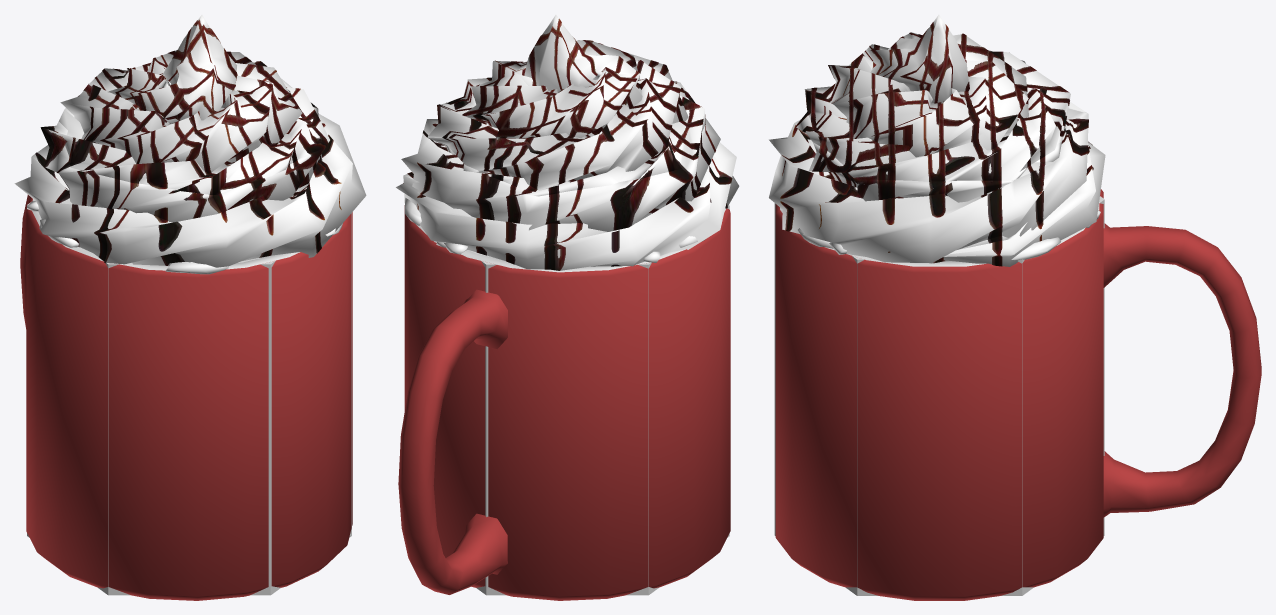
Rendered from CupMug.fbx.
3 views of the same model, side by side, from view 1: azimuth 30°, elevation 25°; view 2: azimuth 150°, elevation 25°; view 3: azimuth 270°, elevation 25° (orthographic).
Visible parts, largest first — view 1: CupMug, CupMug_Cream, CupMug__CreamTop, CupMug_Col; view 2: CupMug, CupMug_Cream, CupMug__CreamTop, CupMug_Col; view 3: CupMug, CupMug_Cream, CupMug__CreamTop, CupMug_Col.
Part boxes in pixels (x1,y1,x2,y2): CupMug: (20,195,352,600); CupMug_Cream: (14,15,366,274); CupMug__CreamTop: (35,19,341,265); CupMug_Col: (27,202,351,595); CupMug: (398,205,730,600); CupMug_Cream: (396,15,739,270); CupMug__CreamTop: (403,18,732,270); CupMug_Col: (469,205,729,595); CupMug: (775,189,1261,600); CupMug_Cream: (769,14,1105,266); CupMug__CreamTop: (780,22,1093,266); CupMug_Col: (774,196,1104,595).
Size of the model in its own units: 0.0831 by 0.1164 by 0.1374.
